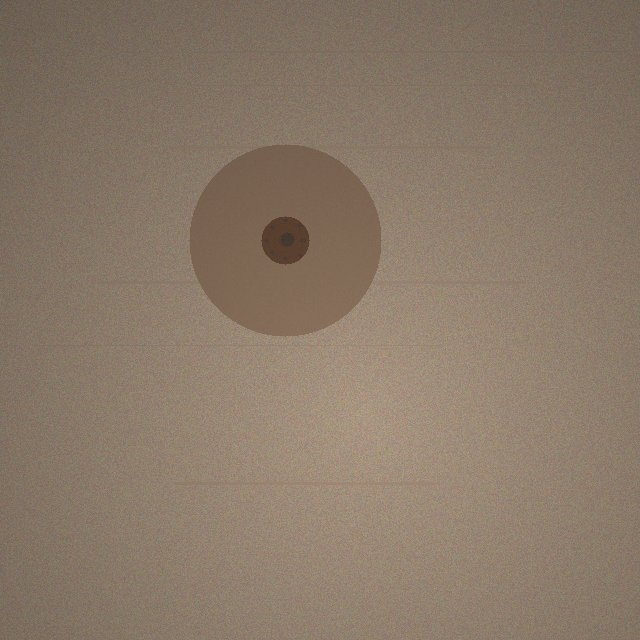cold_weld: (189, 144, 381, 336)
